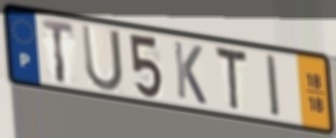5: (127, 30, 165, 100)
I: (264, 51, 283, 121)
K: (171, 38, 209, 107)
T: (213, 42, 249, 114), (40, 16, 77, 86)
U: (79, 22, 126, 94)
